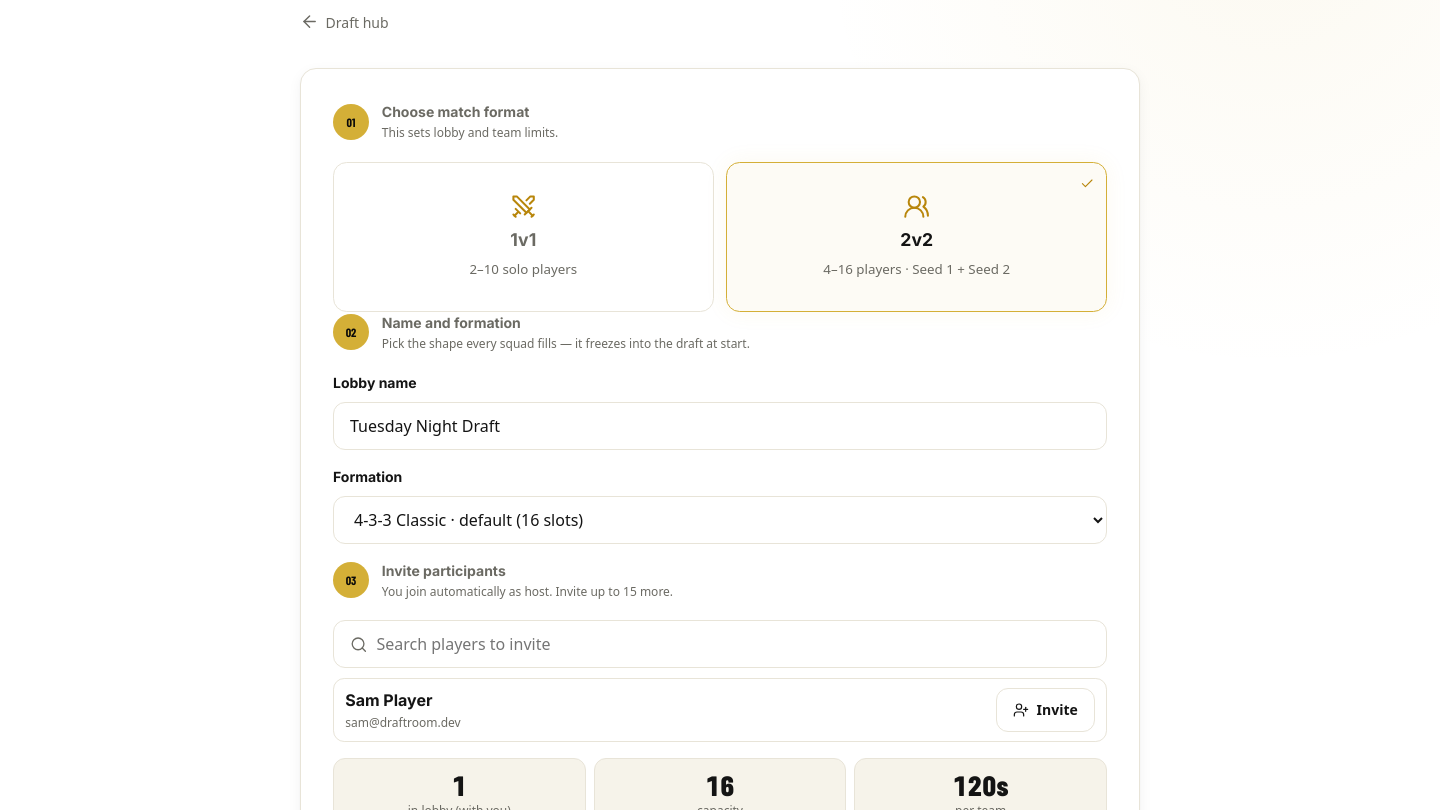
Test case: NewLobbyPage › reflects the 1v1 capacity when the format is switched
Expected: the text "Sam Player" is shown, [345,690,432,710]
Click the button "1v1 2–10 solo players": point(523, 237) [333,162,714,312]
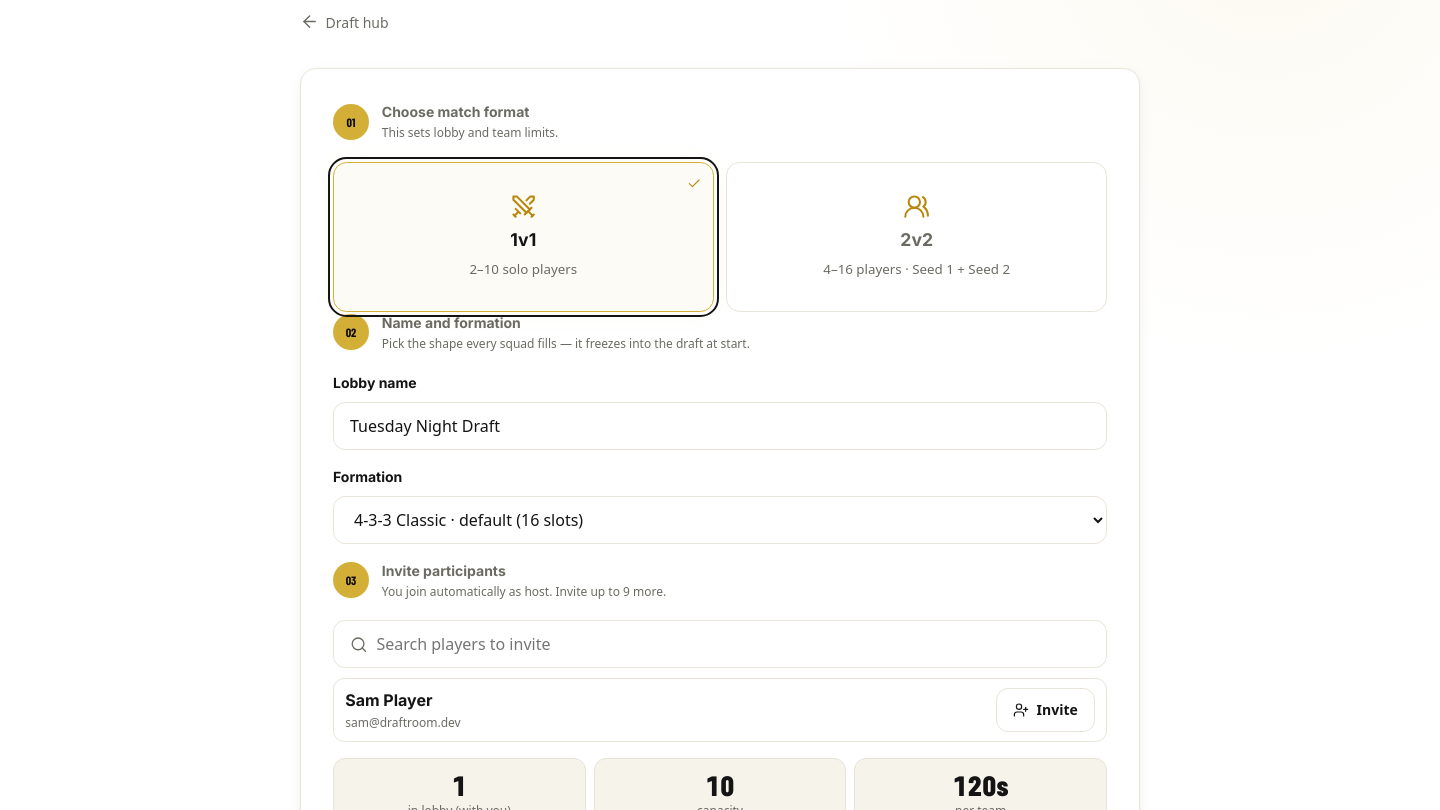
Result: the text "10" is shown at [705,768,734,802]
